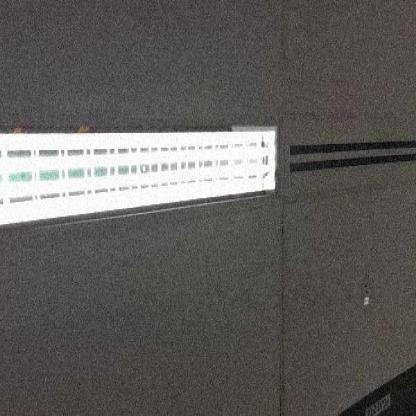light_on: (0, 101, 284, 236)
